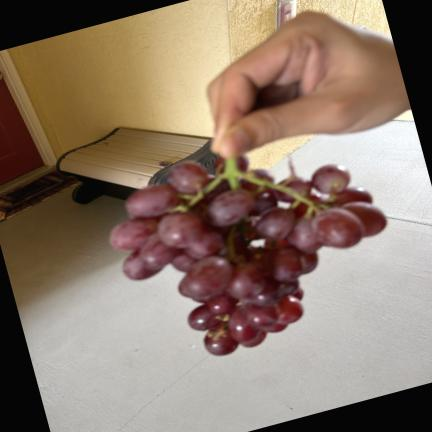grape_cluster: (109, 155, 386, 355)
